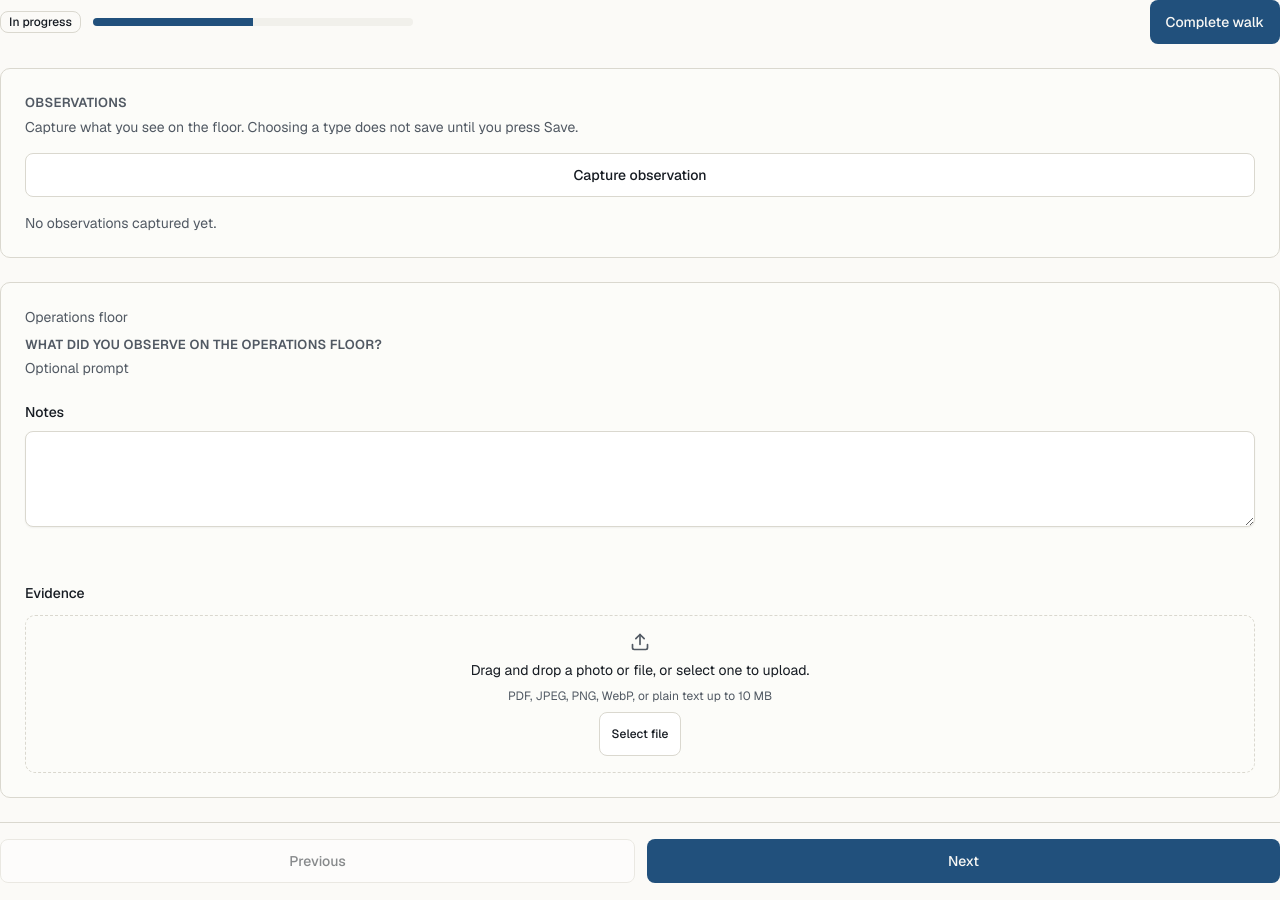
it: GembaWalkWorkspace answer state › blocks Complete when an in-flight save fails during drain
In the text box labelled "Notes": (640, 479) [25, 431, 1255, 527], type "drain failure"
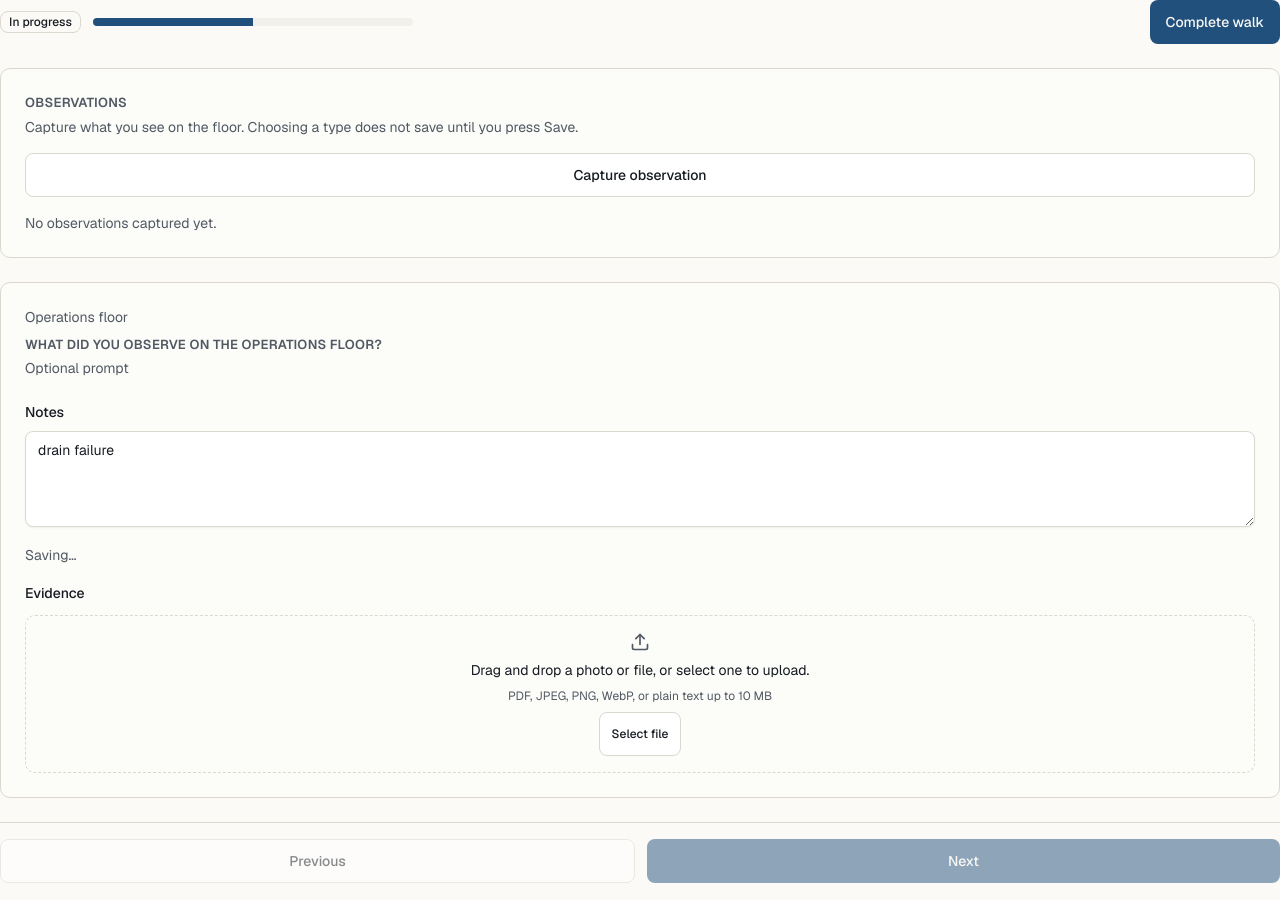
Click the button with test id "gemba-complete-walk": (1215, 22) [1150, 0, 1279, 44]
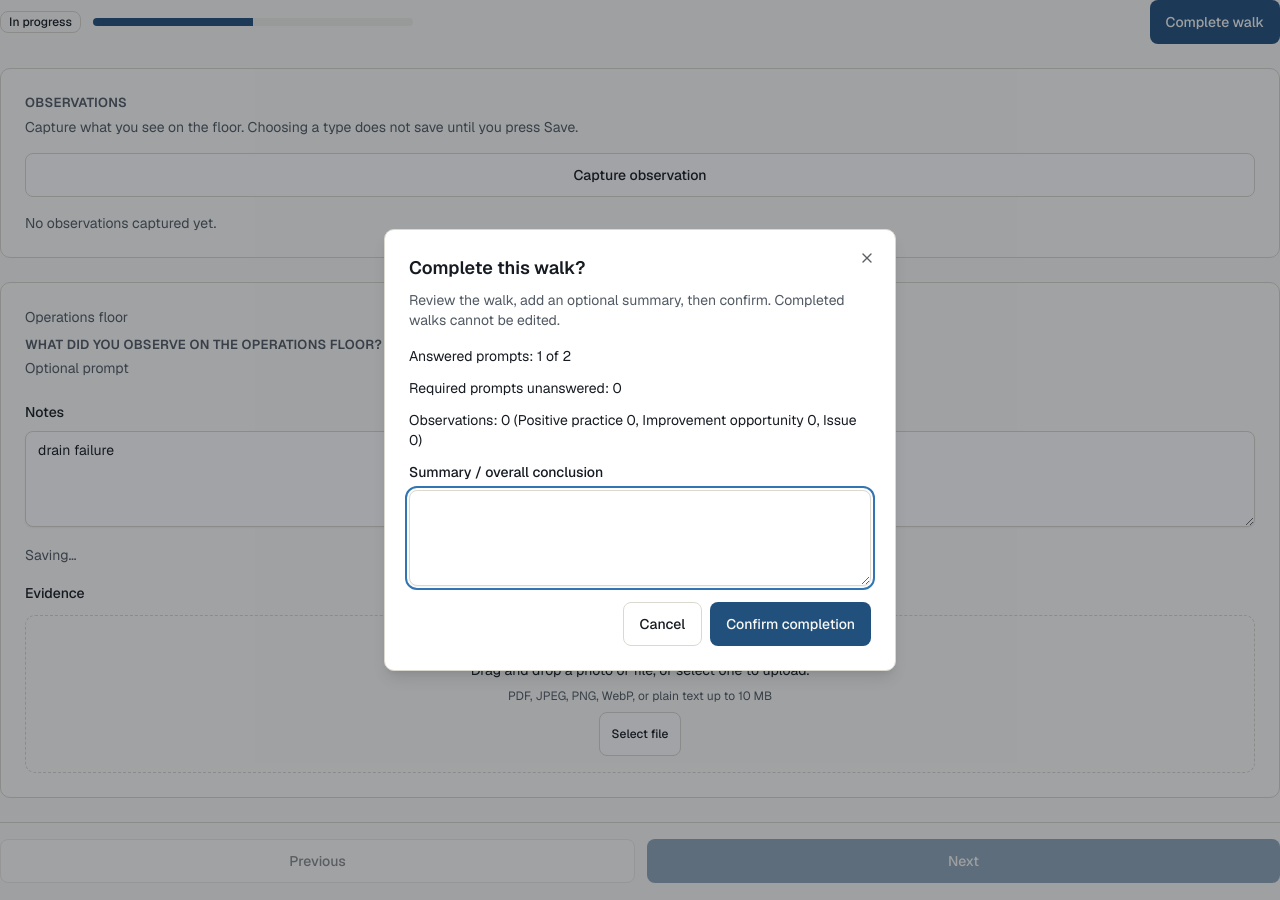
Click the button with test id "gemba-confirm-complete": (791, 624) [710, 602, 871, 646]
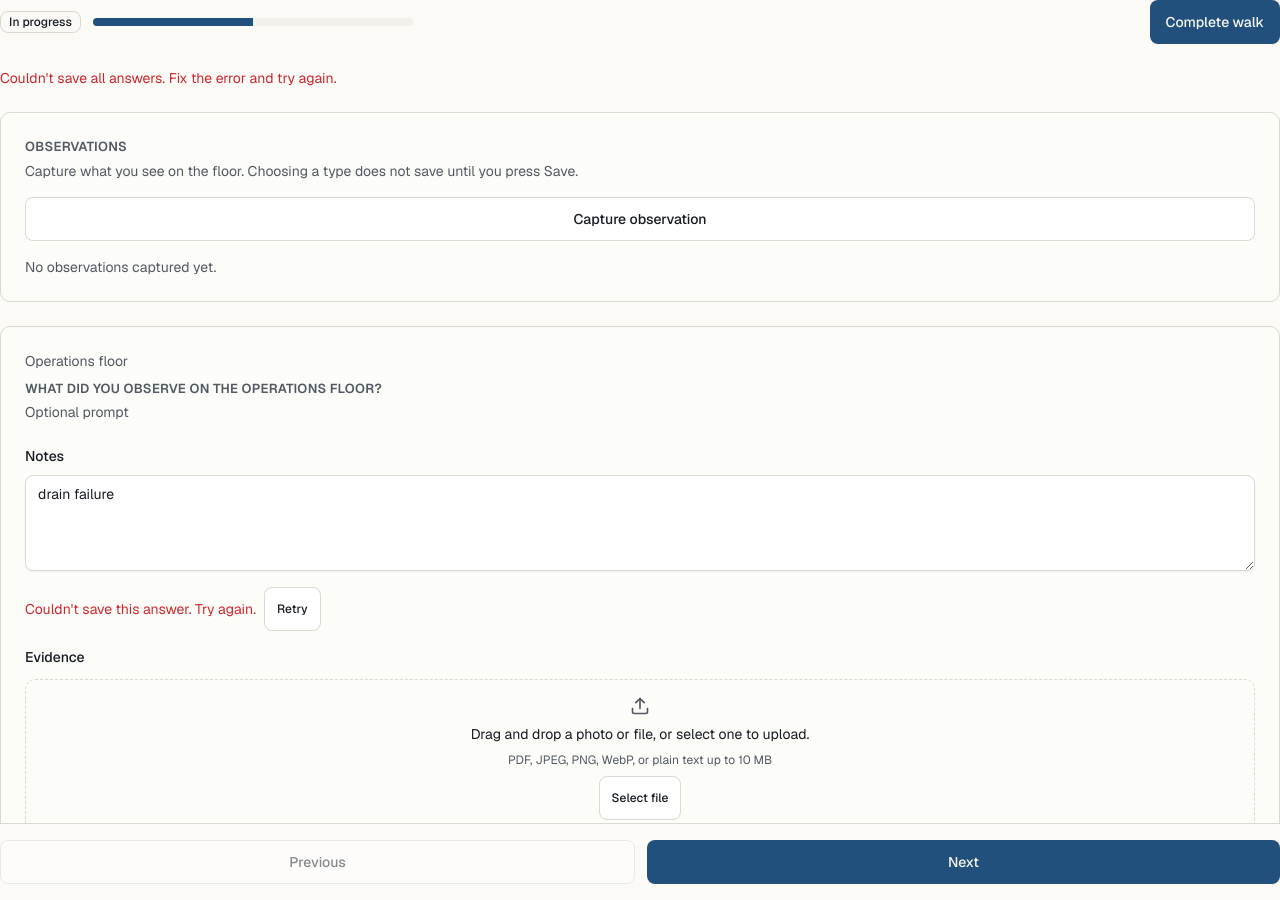
Result: the message with test id "gemba-complete-error" reads "Couldn't save all answers. Fix the error and try again." at [0, 69, 336, 87]
Result: the element with test id "answer-save-status" shows "Couldn't save this answer. Try again." at [25, 600, 256, 618]
